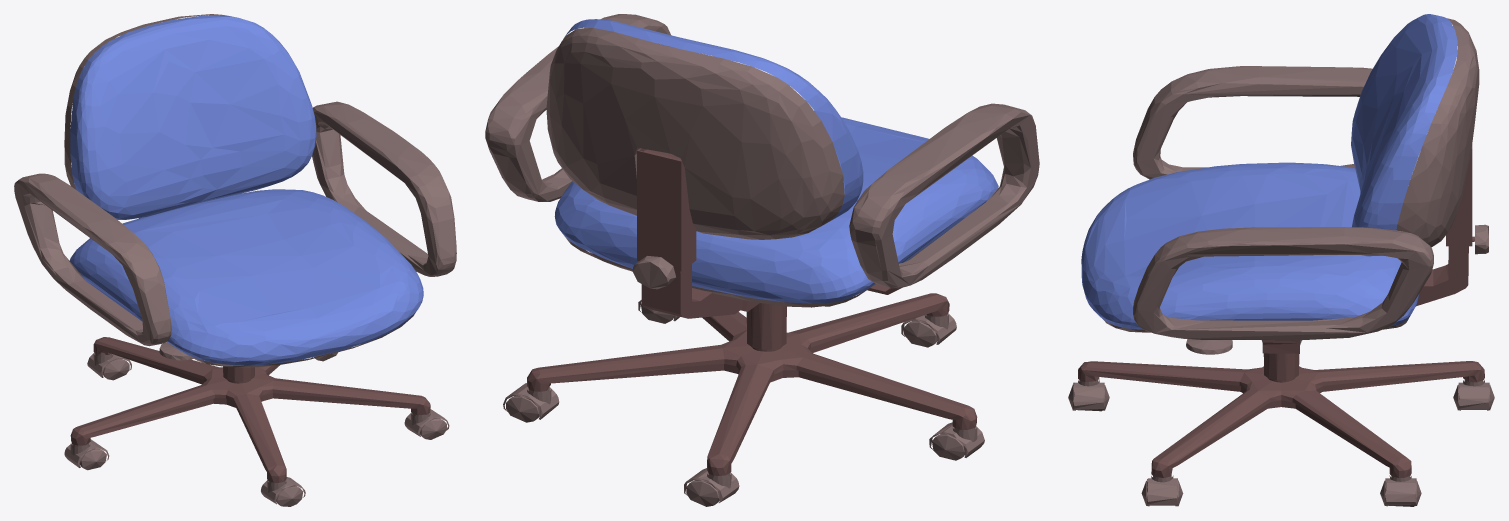
File: sh-kl-office-chair.glb
The picture shows the model from 3 angles, left to right: view 1: azimuth 30°, elevation 25°; view 2: azimuth 150°, elevation 25°; view 3: azimuth 270°, elevation 25°; orthographic projection. The views are drawn at different scales.
Visible parts, largest first — view 1: Office_CH_back_Office_CH_back_Office_CH_fabric, Office_CH_arms, Office_CH_back_post; view 2: Office_CH_arms, Office_CH_back_post, Office_CH_back_Office_CH_back_Office_CH_fabric; view 3: Office_CH_back_Office_CH_back_Office_CH_fabric, Office_CH_arms, Office_CH_back_post.
Boxes of the visible parts, x1,y1,x2,y2 form: Office_CH_back_Office_CH_back_Office_CH_fabric: (69, 15, 423, 365); Office_CH_arms: (14, 14, 456, 506); Office_CH_back_post: (70, 218, 430, 482); Office_CH_arms: (485, 14, 1039, 506); Office_CH_back_post: (527, 148, 977, 475); Office_CH_back_Office_CH_back_Office_CH_fabric: (554, 19, 998, 303); Office_CH_back_Office_CH_back_Office_CH_fabric: (1081, 14, 1457, 329); Office_CH_arms: (1068, 18, 1494, 506); Office_CH_back_post: (1078, 145, 1484, 477).
Bounding box in the file's own units: 0.9996 × 0.9997 × 1.
